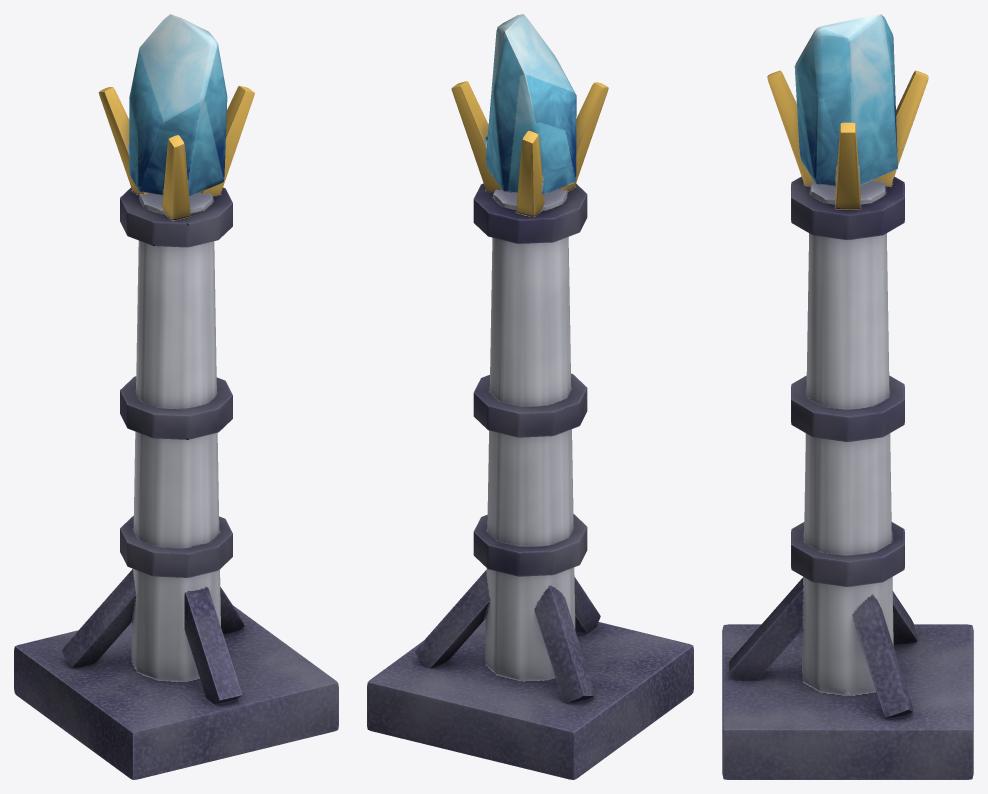
The model's file is Cosmos_Pylone.fbx.
The picture shows the model from 3 angles, left to right: view 1: azimuth 30°, elevation 25°; view 2: azimuth 150°, elevation 25°; view 3: azimuth 270°, elevation 25°; orthographic projection. The views are drawn at different scales.
Parts seen in each view (by area): view 1: Cosmos_Pylone; view 2: Cosmos_Pylone; view 3: Cosmos_Pylone.
Part boxes in pixels (x1,y1,x2,y2): Cosmos_Pylone: (14, 14, 338, 779); Cosmos_Pylone: (367, 14, 693, 779); Cosmos_Pylone: (722, 14, 973, 779).
Size of the model in its own units: 440 by 1389 by 440.
Materials: 1 (1 with a texture image).
